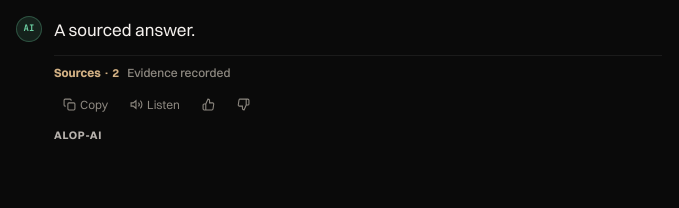
Test: the live council process receipt › shows a progressive source receipt only for safe structured URLs
Expected: the text "Evidence recorded" is shown, [127,64,230,83]
Click the text "Sources · 2" at (87, 74), box [54,64,119,83]
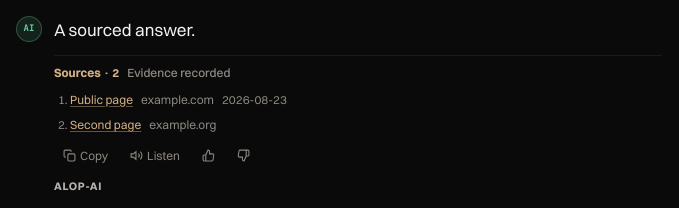
Now the text "2026-08-23" is shown, box [222,92,287,107]
